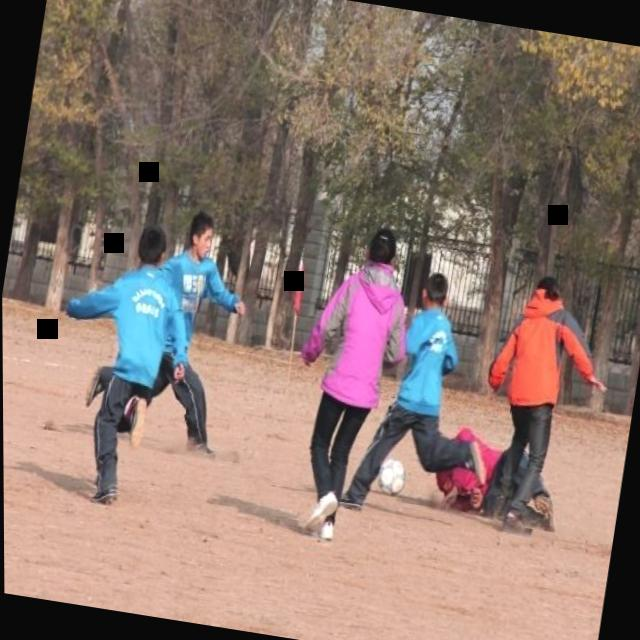Fall-Detected: (407, 400, 581, 532)
